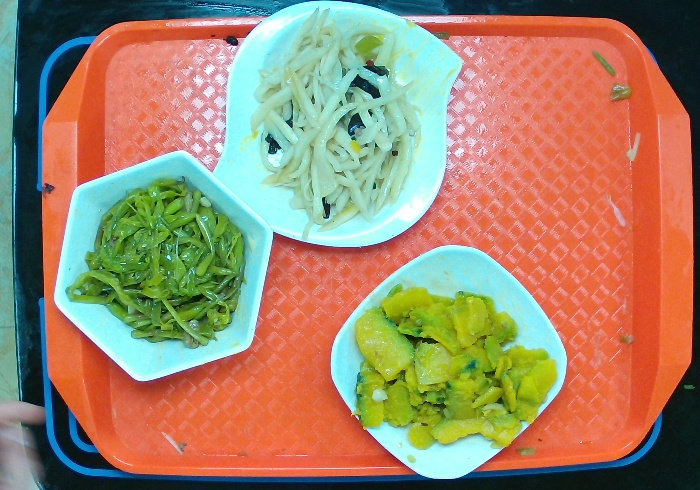RJxy-Liu_Jiao_Wan: (49, 142, 277, 386)
RJxy-Shuang_Jiao_Pan: (208, 1, 467, 251)
RJxy-Si_Fang_Wan: (314, 239, 572, 487)
